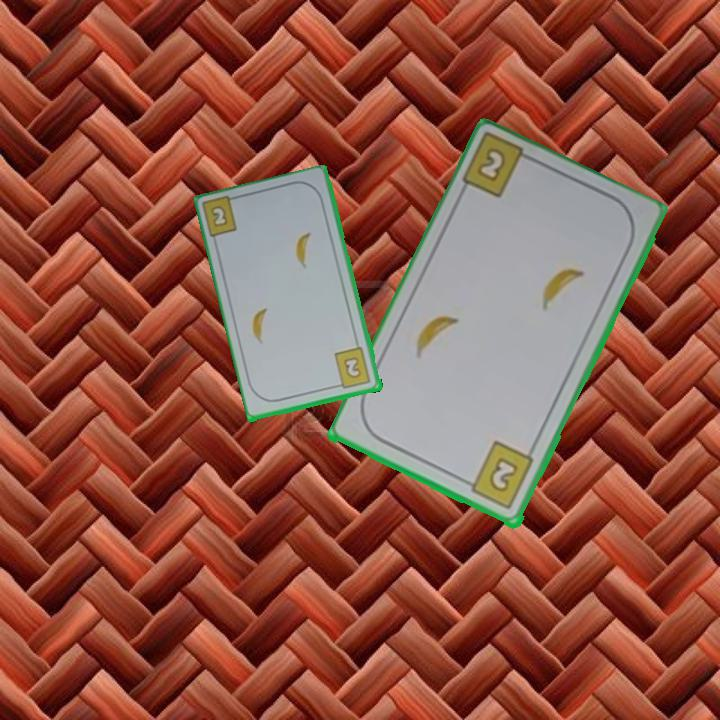2b: (459, 438, 537, 513), (331, 344, 374, 392), (473, 148, 506, 185), (207, 202, 231, 230)
